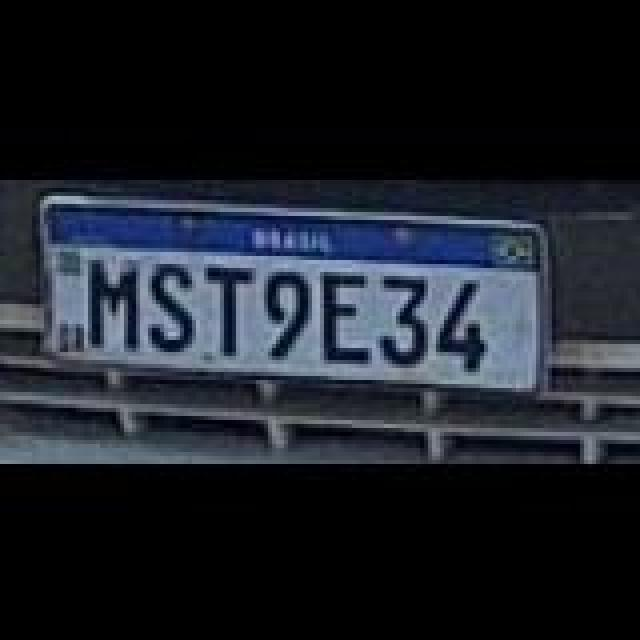3: (380, 270, 428, 362)
4: (438, 274, 490, 366)
9: (264, 266, 312, 358)
E: (324, 270, 372, 362)
M: (92, 254, 140, 346)
S: (148, 258, 196, 350)
T: (206, 262, 258, 354)
